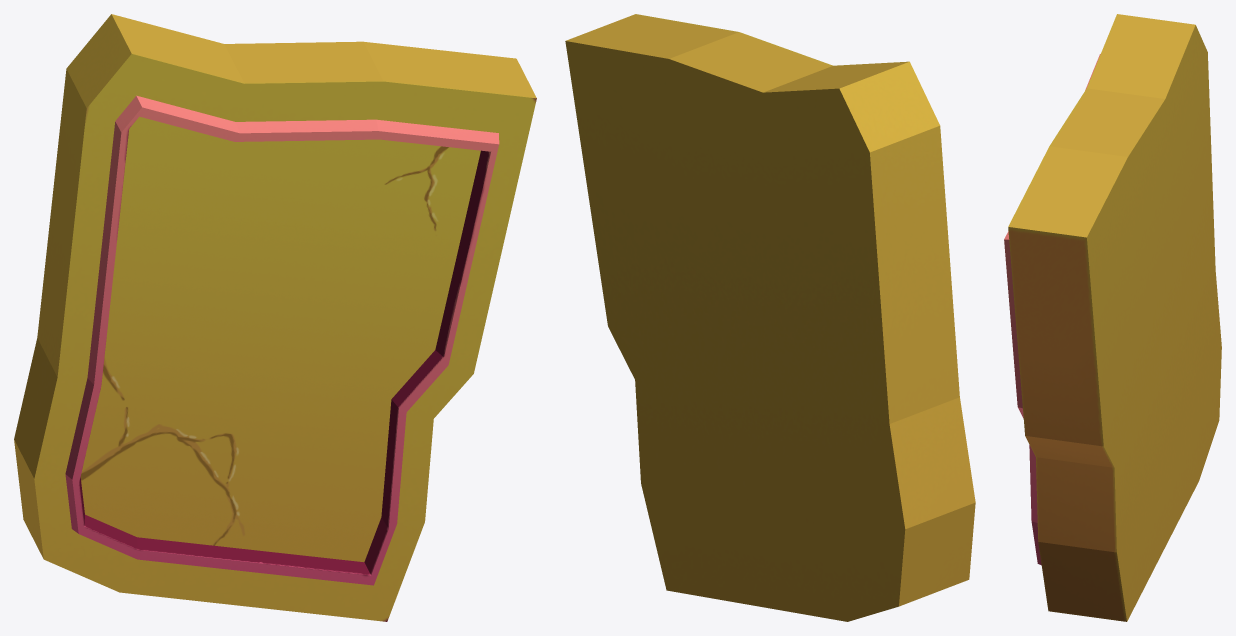
File: stone_tablet.fbx
The picture shows the model from 3 angles, left to right: view 1: azimuth 30°, elevation 25°; view 2: azimuth 150°, elevation 25°; view 3: azimuth 270°, elevation 25°; orthographic projection. The views are drawn at different scales.
Parts seen in each view (by area): view 1: Cube.009; view 2: Cube.009; view 3: Cube.009.
Part boxes in pixels (left/top/right/bottom): Cube.009: left=14, top=14, right=536, bottom=621; Cube.009: left=565, top=14, right=975, bottom=621; Cube.009: left=1004, top=14, right=1221, bottom=621.
Bounding box in the file's own units: 178 × 224 × 87.25.
